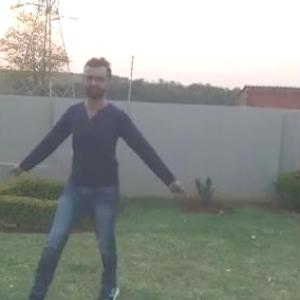land: (42, 74, 160, 246)
